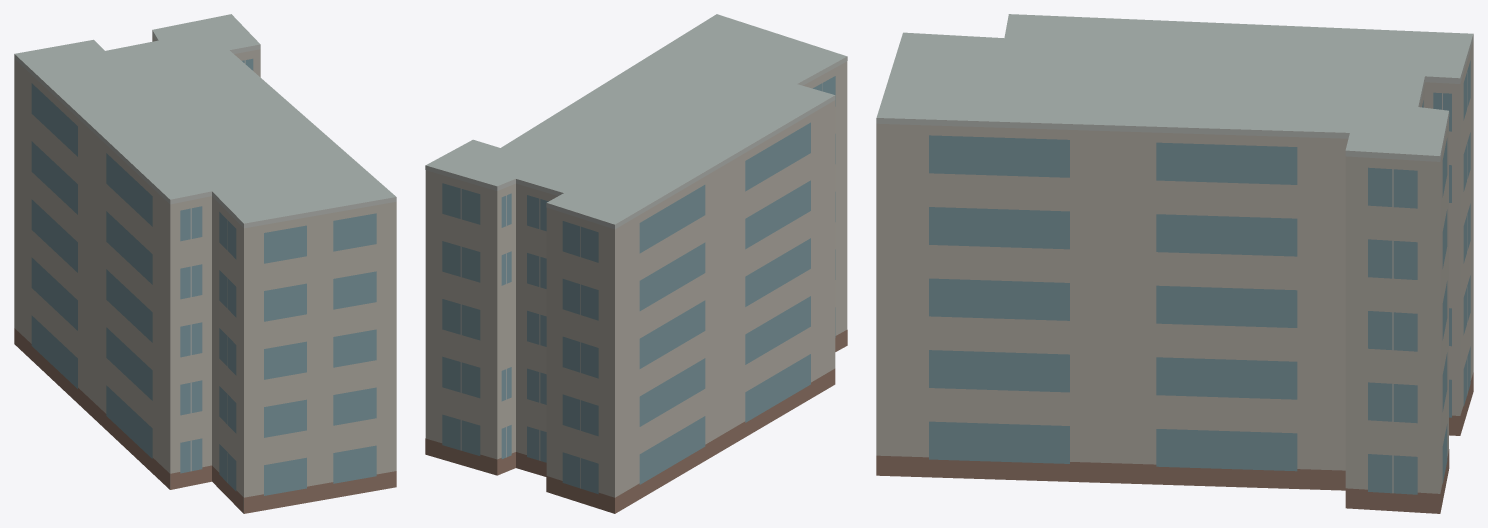
Rendered from survey-upis-32564267.glb.
The picture shows the model from 3 angles, left to right: view 1: azimuth 30°, elevation 25°; view 2: azimuth 150°, elevation 25°; view 3: azimuth 270°, elevation 25°; orthographic projection. The views are drawn at different scales.
Visible parts, largest first — view 1: survey-upis-32564267.tmp; view 2: survey-upis-32564267.tmp; view 3: survey-upis-32564267.tmp.
Part boxes in pixels (<box>): survey-upis-32564267.tmp: <box>14,14,396,513</box>; survey-upis-32564267.tmp: <box>425,14,847,513</box>; survey-upis-32564267.tmp: <box>876,14,1473,513</box>.
Size of the model in its own units: 12.71 by 14.9 by 22.55.
